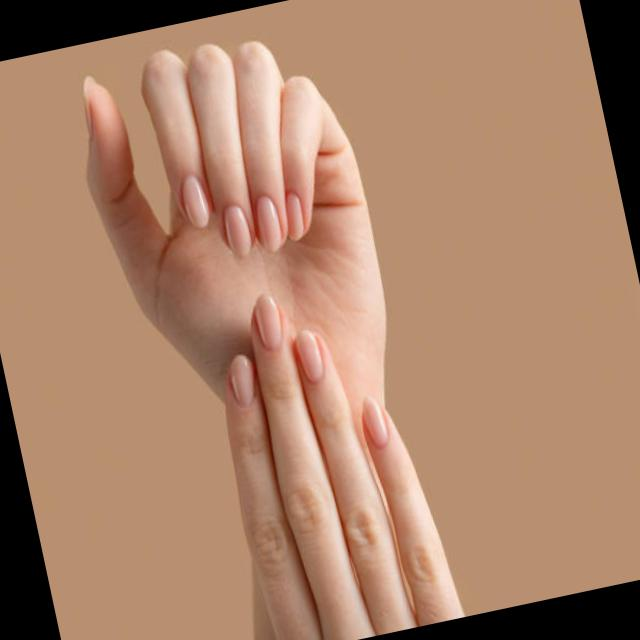Nail: (181, 173, 209, 228), (295, 329, 324, 382), (254, 295, 281, 350), (223, 204, 251, 257), (256, 194, 282, 251), (229, 354, 254, 408), (362, 398, 388, 448), (285, 193, 304, 242)
